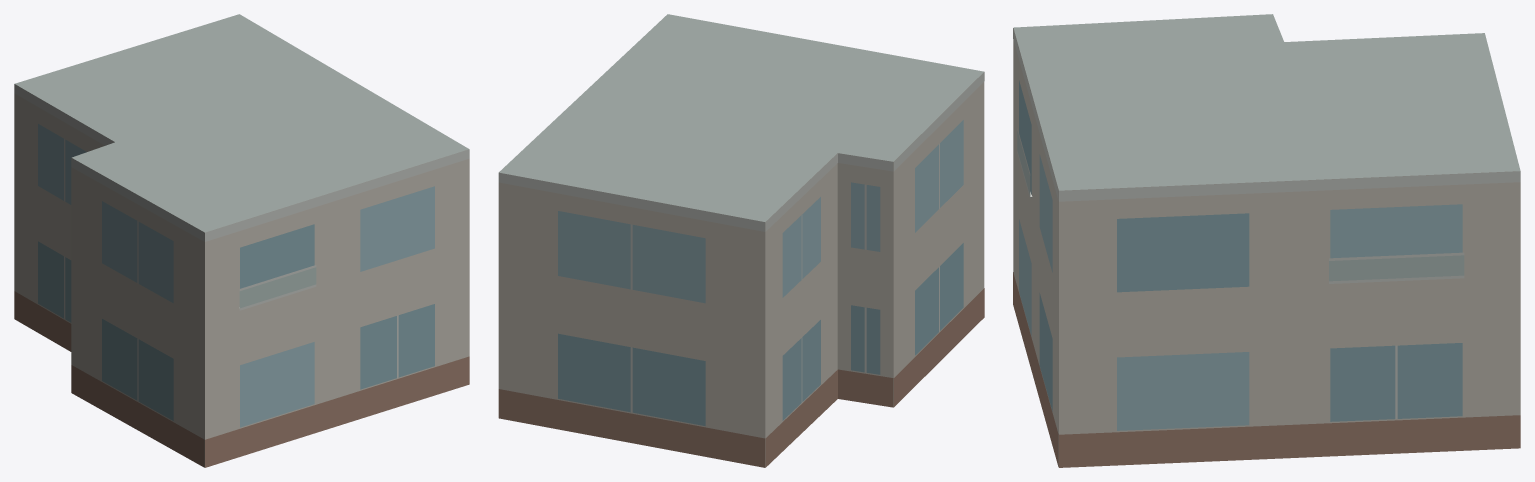
The model's file is survey-upis-32547179.glb.
3 views of the same model, side by side, from view 1: azimuth 30°, elevation 25°; view 2: azimuth 150°, elevation 25°; view 3: azimuth 270°, elevation 25° (orthographic). The views are drawn at different scales.
Parts seen in each view (by area): view 1: survey-upis-32547179.tmp; view 2: survey-upis-32547179.tmp; view 3: survey-upis-32547179.tmp.
Boxes of the visible parts, x1=… form: survey-upis-32547179.tmp: x1=14, y1=14, x2=469, y2=467; survey-upis-32547179.tmp: x1=498, y1=14, x2=984, y2=467; survey-upis-32547179.tmp: x1=1013, y1=14, x2=1520, y2=467.
Size of the model in its own units: 8.35 by 6.1 by 10.13.
